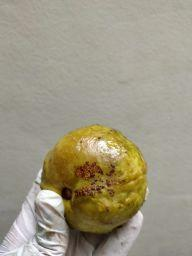guava: (43, 120, 154, 235)
